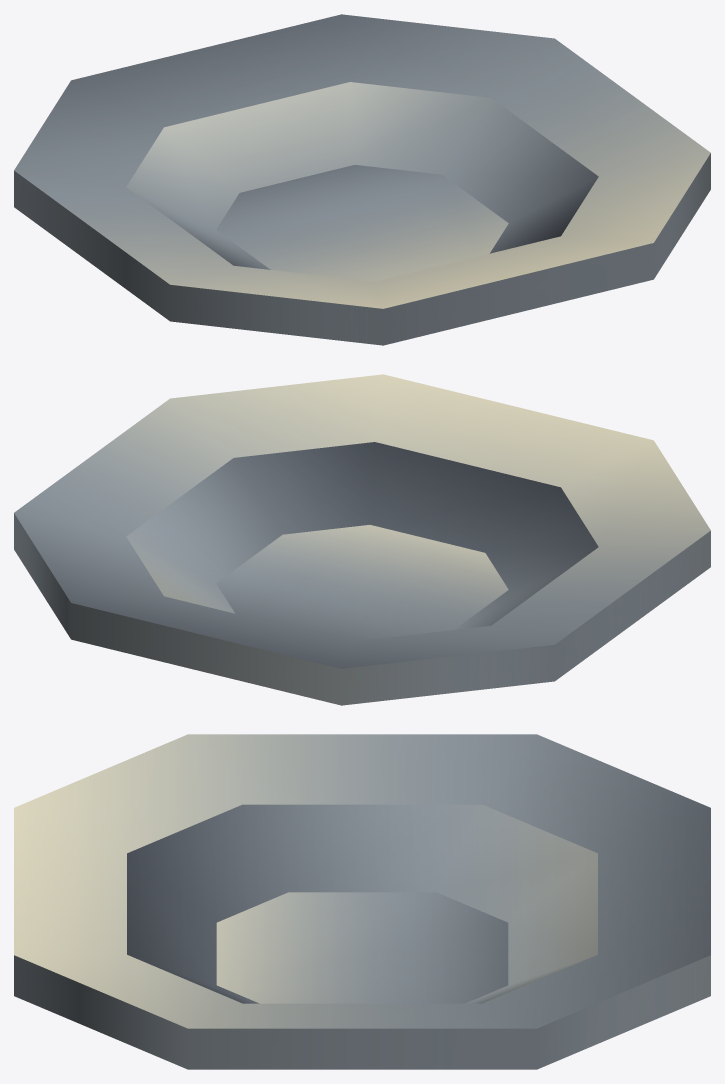
File: plate_silver.fbx
The picture shows the model from 3 angles, top to bottom: view 1: azimuth 30°, elevation 25°; view 2: azimuth 150°, elevation 25°; view 3: azimuth 270°, elevation 25°; orthographic projection. The views are drawn at different scales.
Visible parts, largest first — view 1: plate_silver; view 2: plate_silver; view 3: plate_silver.
Boxes of the visible parts, left/top/right/bottom form: plate_silver: left=14, top=14, right=710, bottom=345; plate_silver: left=14, top=374, right=710, bottom=705; plate_silver: left=14, top=734, right=710, bottom=1069.
Bounding box in the file's own units: 51.71 × 7.63 × 51.71.
